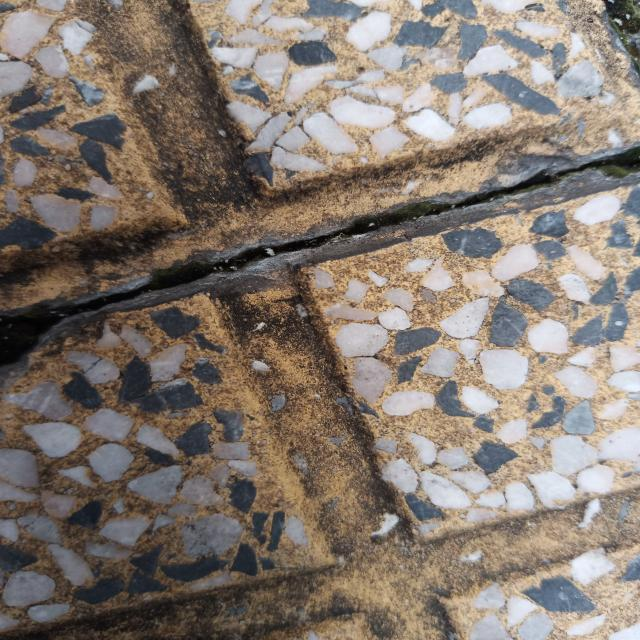diagonal crack: (0, 148, 640, 370)
